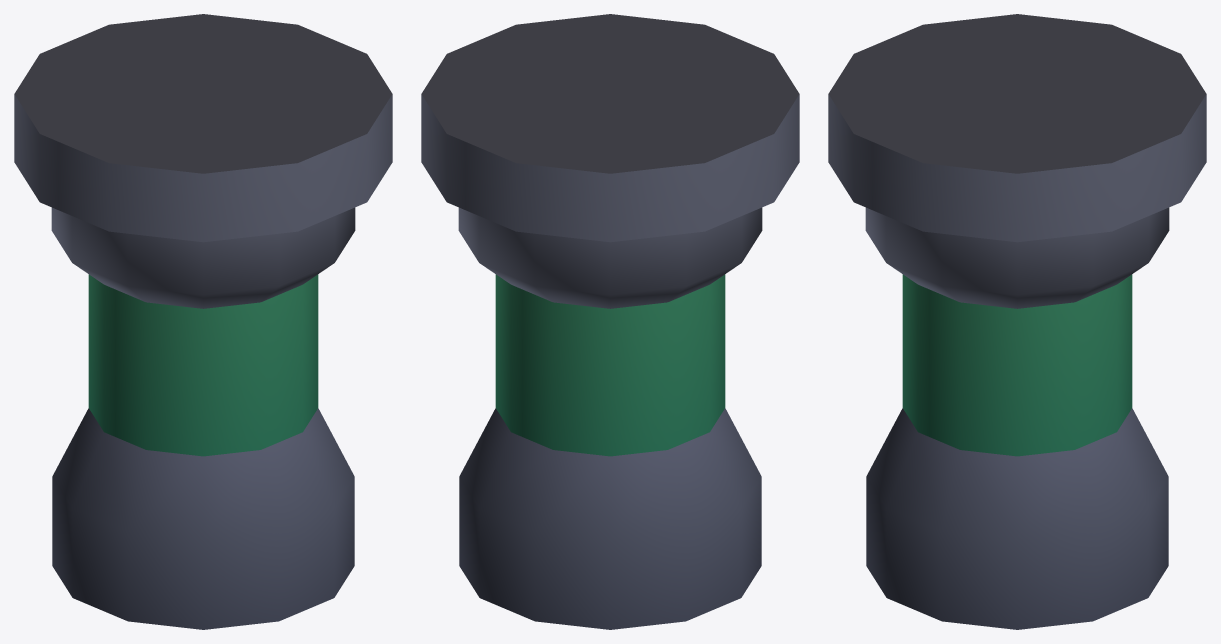
Rendered from column.glb.
The picture shows the model from 3 angles, left to right: view 1: azimuth 30°, elevation 25°; view 2: azimuth 150°, elevation 25°; view 3: azimuth 270°, elevation 25°; orthographic projection.
Parts seen in each view (by area): view 1: column; view 2: column; view 3: column.
Part boxes in pixels (box(x1,y1,x2,y2)): column: box(14, 14, 392, 629); column: box(421, 14, 799, 629); column: box(828, 14, 1206, 629).
Size of the model in its own units: 0.7258 by 1 by 0.7258.
